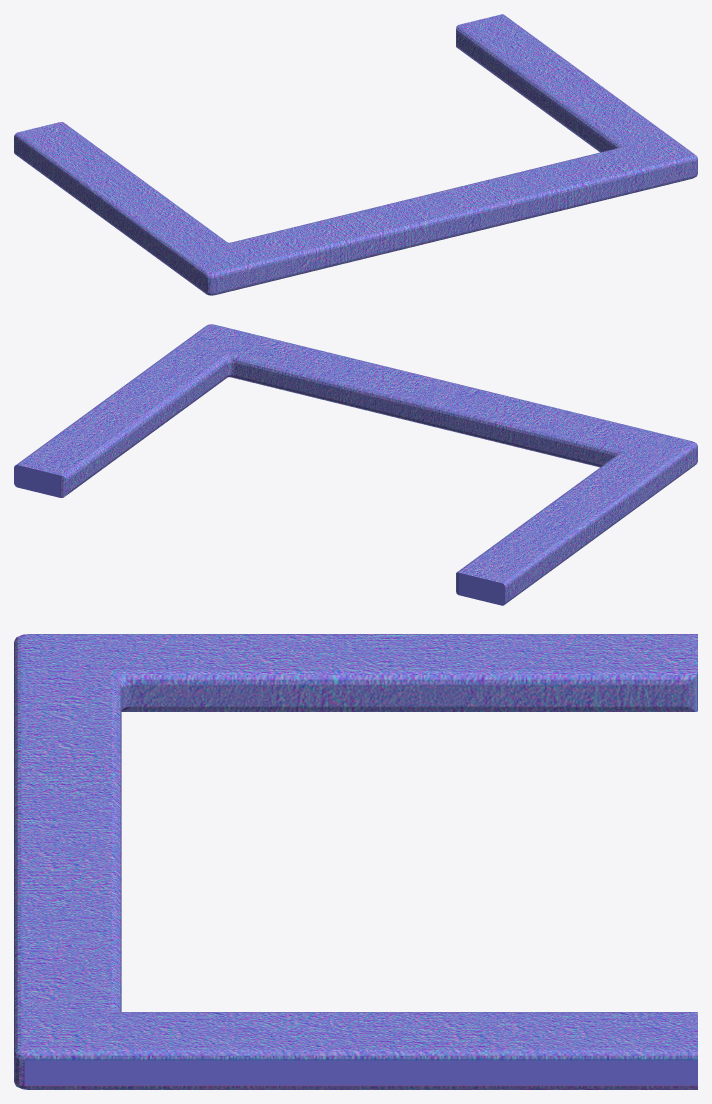
The model's file is room 3 cieling 1.fbx.
3 views of the same model, one above another, from view 1: azimuth 30°, elevation 25°; view 2: azimuth 150°, elevation 25°; view 3: azimuth 270°, elevation 25° (orthographic). The views are drawn at different scales.
Visible parts, largest first — view 1: Cube.220; view 2: Cube.220; view 3: Cube.220.
Part boxes in pixels (x1,y1,x2,y2): Cube.220: (14, 14, 697, 295); Cube.220: (14, 324, 697, 605); Cube.220: (14, 634, 697, 1089).
Bounding box in the file's own units: 841 × 36.74 × 577.
